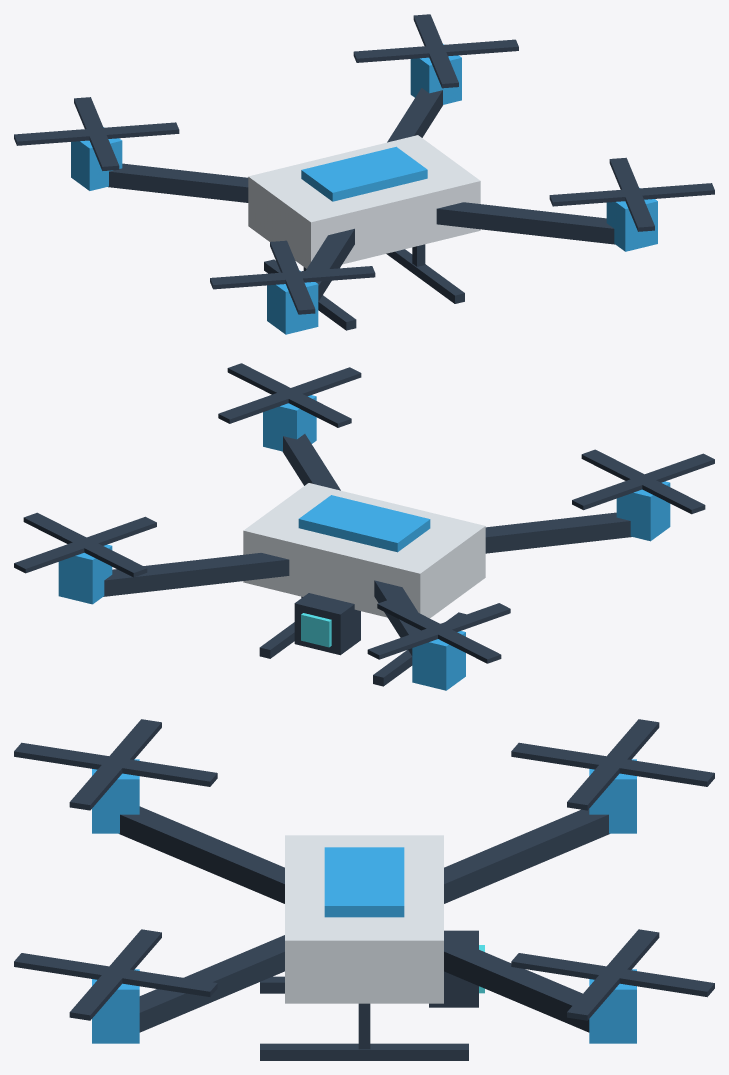
Rendered from drone.glb.
3 views of the same model, one above another, from view 1: azimuth 30°, elevation 25°; view 2: azimuth 150°, elevation 25°; view 3: azimuth 270°, elevation 25° (orthographic). The views are drawn at different scales.
Size of the model in its own units: 7.05 by 1.74 by 7.05.
